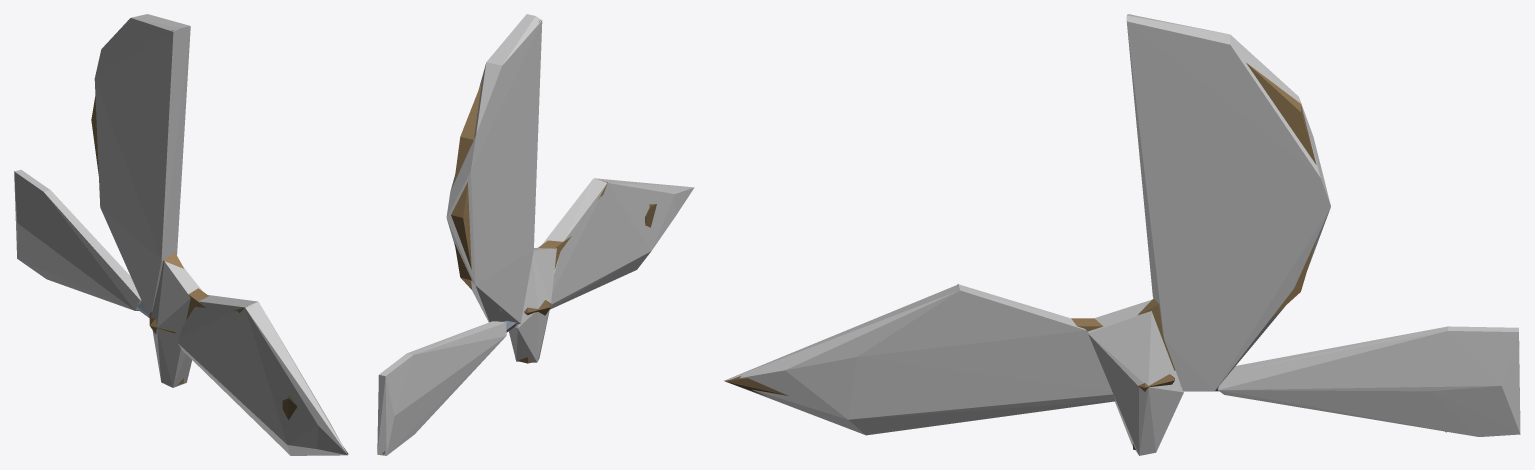
File: SM_Prop_Weather_Vane_01_Top_01.fbx
3 renders of one model, left to right at view 1: azimuth 30°, elevation 25°; view 2: azimuth 150°, elevation 25°; view 3: azimuth 270°, elevation 25°, orthographic. The views are drawn at different scales.
Visible parts, largest first — view 1: SM_Prop_Weather_Vane_01_Top_01_ConvexHulls, SM_Prop_Weather_Vane_01_Top_01; view 2: SM_Prop_Weather_Vane_01_Top_01_ConvexHulls, SM_Prop_Weather_Vane_01_Top_01; view 3: SM_Prop_Weather_Vane_01_Top_01_ConvexHulls, SM_Prop_Weather_Vane_01_Top_01.
Boxes of the visible parts, <box> form: SM_Prop_Weather_Vane_01_Top_01_ConvexHulls: <box>14,14,347,455</box>; SM_Prop_Weather_Vane_01_Top_01: <box>91,30,348,454</box>; SM_Prop_Weather_Vane_01_Top_01_ConvexHulls: <box>377,14,694,455</box>; SM_Prop_Weather_Vane_01_Top_01: <box>382,20,656,454</box>; SM_Prop_Weather_Vane_01_Top_01_ConvexHulls: <box>724,14,1520,455</box>; SM_Prop_Weather_Vane_01_Top_01: <box>725,14,1446,450</box>.
Size of the model in its own units: 18.4 by 215 by 129.
2 materials, 1 textured.
